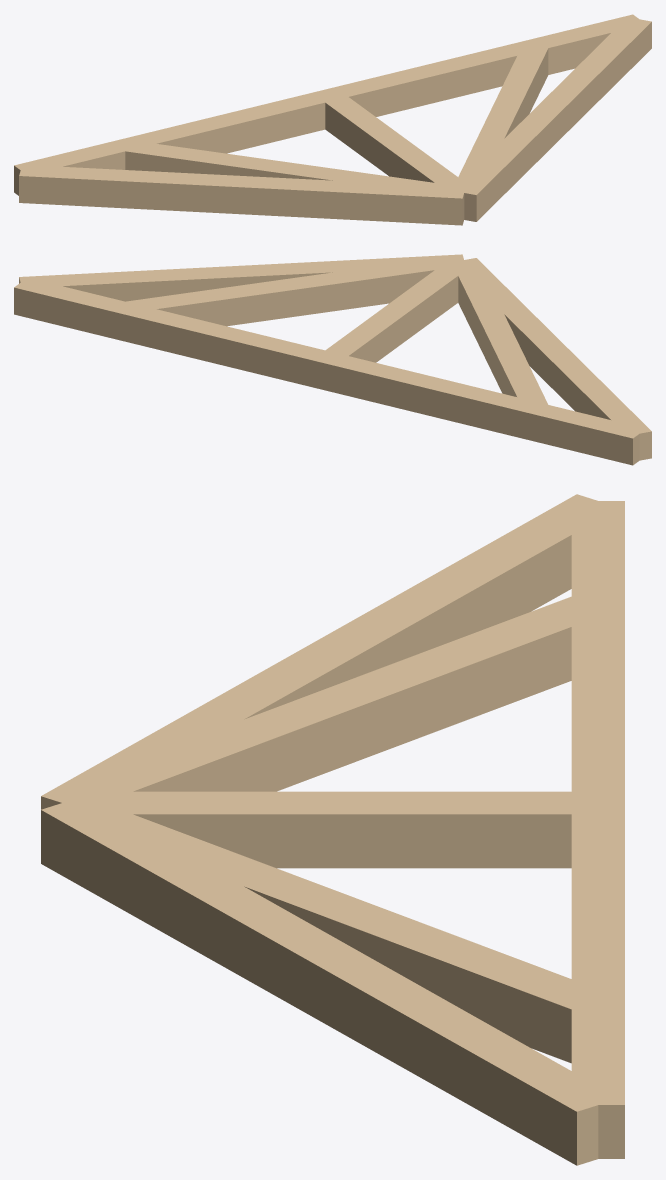
The model's file is roof-truss.glb.
The picture shows the model from 3 angles, top to bottom: view 1: azimuth 30°, elevation 25°; view 2: azimuth 150°, elevation 25°; view 3: azimuth 270°, elevation 25°; orthographic projection. The views are drawn at different scales.
Visible parts, largest first — view 1: world; view 2: world; view 3: world.
Boxes of the visible parts, <box> form: world: <box>14,14,651,225</box>; world: <box>14,254,651,465</box>; world: <box>41,494,624,1165</box>.
Bounding box in the file's own units: 2.45 × 0.1 × 0.981.
